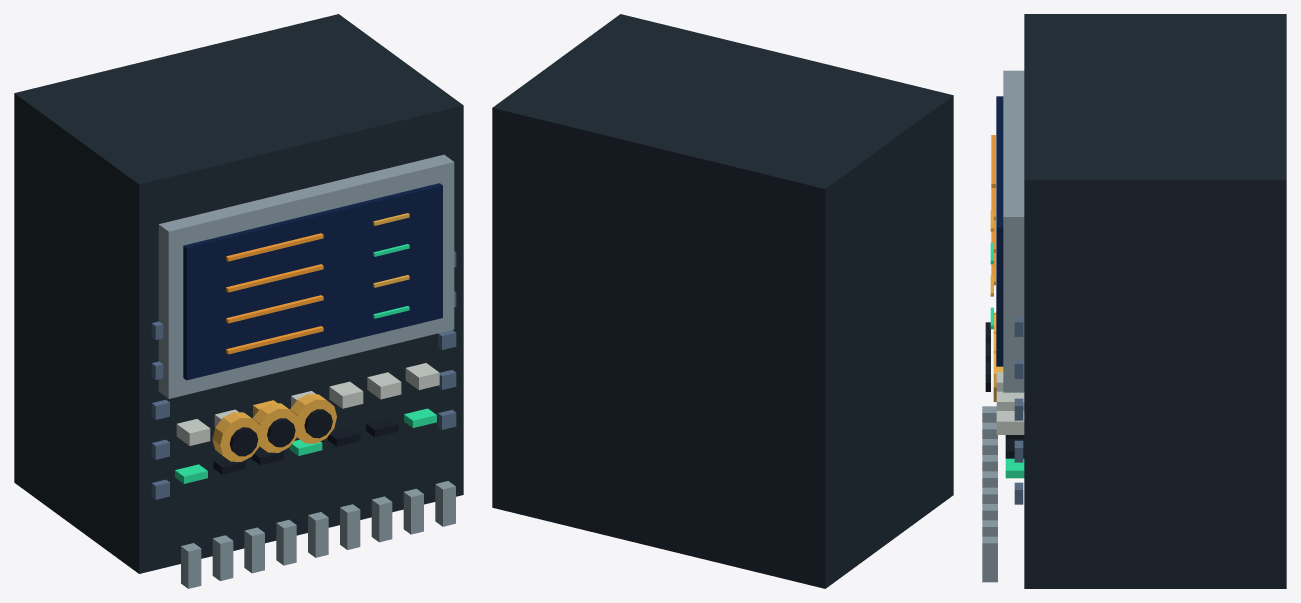
File: 52_L84_ExternalDisturbanceTorqueInjector.fbx
3 renders of one model, left to right at view 1: azimuth 30°, elevation 25°; view 2: azimuth 150°, elevation 25°; view 3: azimuth 270°, elevation 25°, orthographic. The views are drawn at different scales.
Parts seen in each view (by area): view 1: L84_ExternalDisturbanceTorqueInjector, L84_ExternalDisturbanceTorqueInjector_Part_0009, L84_ExternalDisturbanceTorqueInjector_Part_0013, L84_ExternalDisturbanceTorqueInjector_Part_0011, L84_ExternalDisturbanceTorqueInjector_Part_0010, L84_ExternalDisturbanceTorqueInjector_Part_0012, L84_ExternalDisturbanceTorqueInjector_Part_0014; view 2: L84_ExternalDisturbanceTorqueInjector; view 3: L84_ExternalDisturbanceTorqueInjector.
Boxes of the visible parts, x1,y1,x2,y2 form: L84_ExternalDisturbanceTorqueInjector: [14, 14, 463, 588]; L84_ExternalDisturbanceTorqueInjector_Part_0009: [212, 412, 262, 461]; L84_ExternalDisturbanceTorqueInjector_Part_0013: [290, 394, 336, 443]; L84_ExternalDisturbanceTorqueInjector_Part_0011: [252, 403, 298, 452]; L84_ExternalDisturbanceTorqueInjector_Part_0010: [229, 427, 258, 456]; L84_ExternalDisturbanceTorqueInjector_Part_0012: [267, 418, 295, 447]; L84_ExternalDisturbanceTorqueInjector_Part_0014: [304, 409, 332, 438]; L84_ExternalDisturbanceTorqueInjector: [492, 14, 953, 588]; L84_ExternalDisturbanceTorqueInjector: [982, 14, 1286, 588].
Bounding box in the file's own units: 99.96 × 117 × 77.32.
